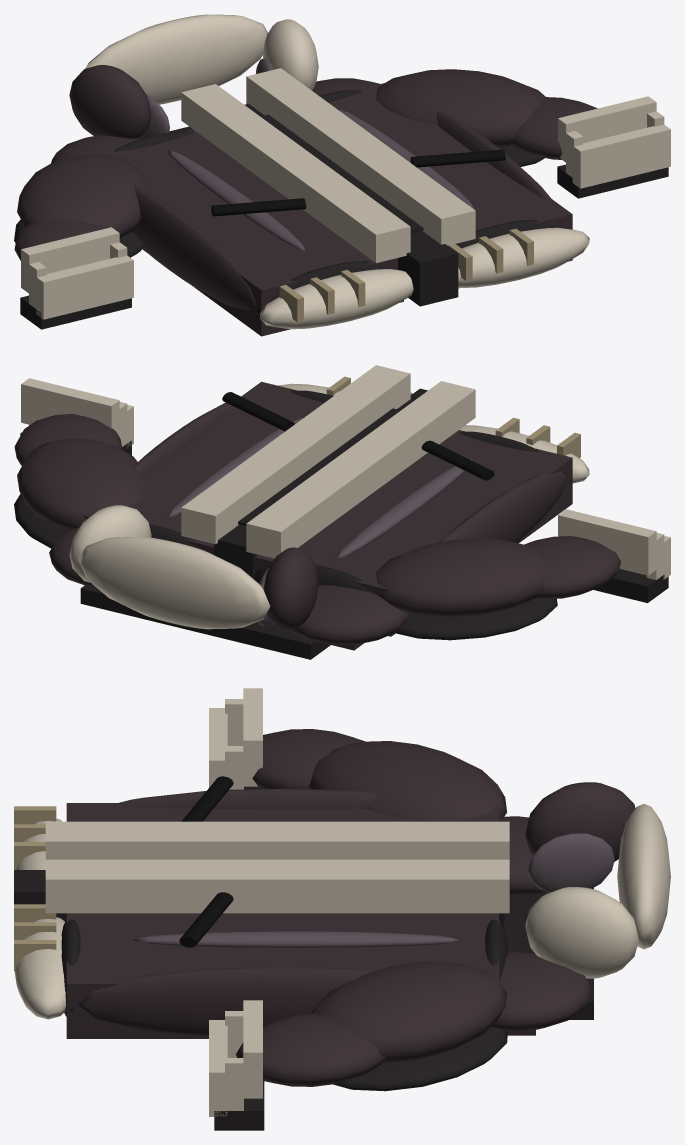
Rendered from CMU3DCivilianJacketBomberJacketWorldCloud.glb.
3 views of the same model, one above another, from view 1: azimuth 30°, elevation 25°; view 2: azimuth 150°, elevation 25°; view 3: azimuth 270°, elevation 25° (orthographic). The views are drawn at different scales.
Visible parts, largest first — view 1: left short bomber front cloth face, fleece left zipper facing, fleece right zipper facing, rear collar roll, right short bomber front cloth face, right soft upper sleeve, left soft upper sleeve, left short bomber front side fold left, left fleece hem, left standing collar, right cuff outer bottom fold, left cuff outer bottom fold (+24 smaller); view 2: left short bomber front cloth face, fleece left zipper facing, rear collar roll, fleece right zipper facing, left soft upper sleeve, right soft upper sleeve, right short bomber front cloth face, left connected shoulder yoke, left short bomber front side fold left, left outward forearm fold, left standing collar, left sleeve underside (+20 smaller); view 3: fleece right zipper facing, right short bomber front cloth face, fleece left zipper facing, right soft upper sleeve, right short bomber front side fold right, left soft upper sleeve, right standing collar, right outward forearm fold, rear collar roll, right connected shoulder yoke, left standing collar, left short bomber front cloth face (+24 smaller).
Part boxes in pixels (<box>): left short bomber front cloth face: <box>93,129,403,336</box>; fleece left zipper facing: <box>181,84,410,262</box>; fleece right zipper facing: <box>246,68,475,245</box>; rear collar roll: <box>85,14,267,104</box>; right short bomber front cloth face: <box>328,83,572,288</box>; right soft upper sleeve: <box>376,69,546,147</box>; left soft upper sleeve: <box>17,154,147,238</box>; left short bomber front side fold left: <box>132,185,256,310</box>; left fleece hem: <box>260,269,413,329</box>; left standing collar: <box>69,65,151,138</box>; right cuff outer bottom fold: <box>572,124,670,188</box>; left cuff outer bottom fold: <box>36,255,133,319</box>; left short bomber front cloth face: <box>254,430,572,636</box>; fleece left zipper facing: <box>246,381,475,558</box>; rear collar roll: <box>79,536,270,629</box>; fleece right zipper facing: <box>181,365,410,544</box>; left soft upper sleeve: <box>376,538,546,618</box>; right soft upper sleeve: <box>17,438,147,529</box>; right short bomber front cloth face: <box>83,381,324,554</box>; left connected shoulder yoke: <box>292,585,409,644</box>; left short bomber front side fold left: <box>439,471,567,542</box>; left outward forearm fold: <box>524,536,620,599</box>; left standing collar: <box>263,547,318,630</box>; left sleeve underside: <box>395,598,557,640</box>; fleece right zipper facing: <box>45,859,509,913</box>; right short bomber front cloth face: <box>66,913,498,1038</box>; fleece left zipper facing: <box>45,821,509,859</box>; right soft upper sleeve: <box>311,961,506,1064</box>; right short bomber front side fold right: <box>78,967,374,1036</box>; left soft upper sleeve: <box>308,741,506,821</box>; right standing collar: <box>525,887,638,978</box>; right outward forearm fold: <box>235,1013,385,1086</box>; rear collar roll: <box>617,804,670,949</box>; right connected shoulder yoke: <box>491,952,592,1031</box>; left standing collar: <box>525,782,635,861</box>; left short bomber front cloth face: <box>66,803,498,821</box>.
Bounding box in the file's own units: 0.5112 × 0.084 × 0.3894.
7 materials, 1 textured.
